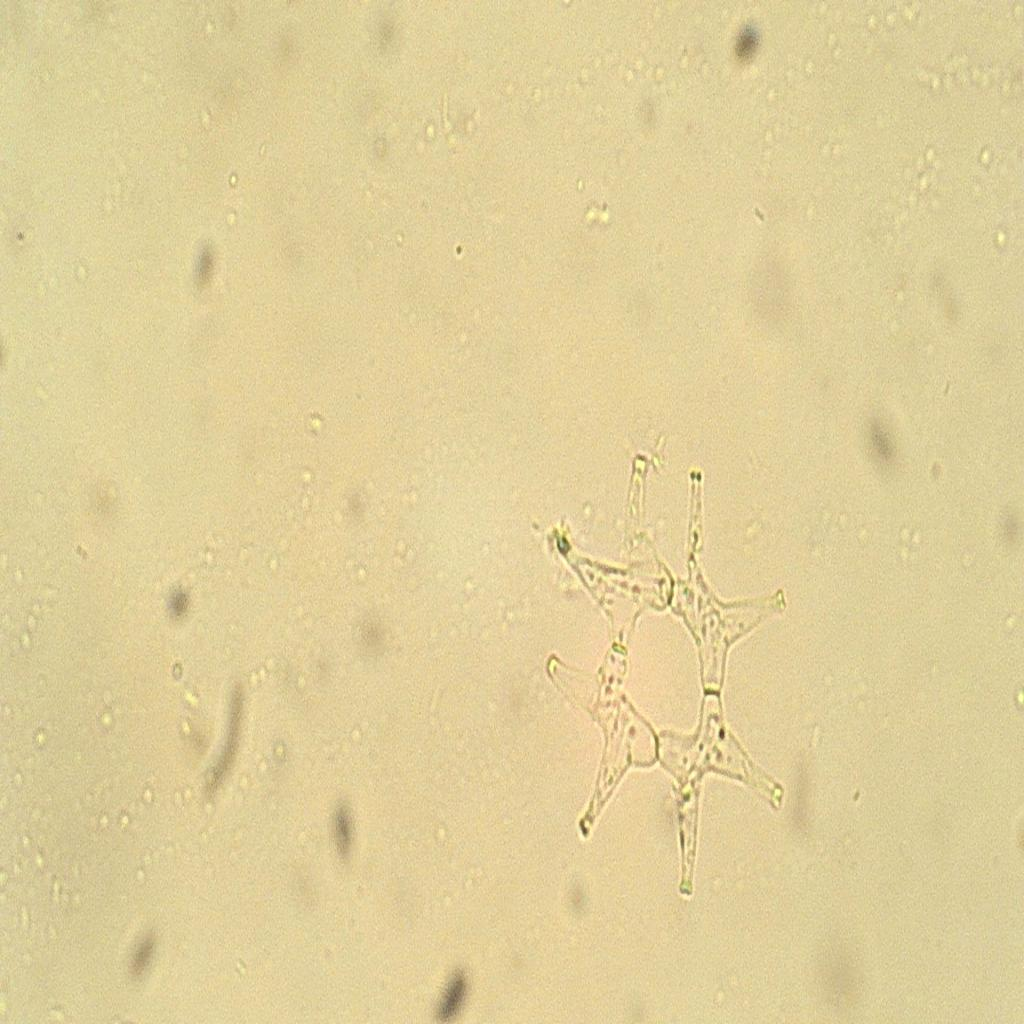Pediastrum_1F0: (520, 442, 799, 940)
